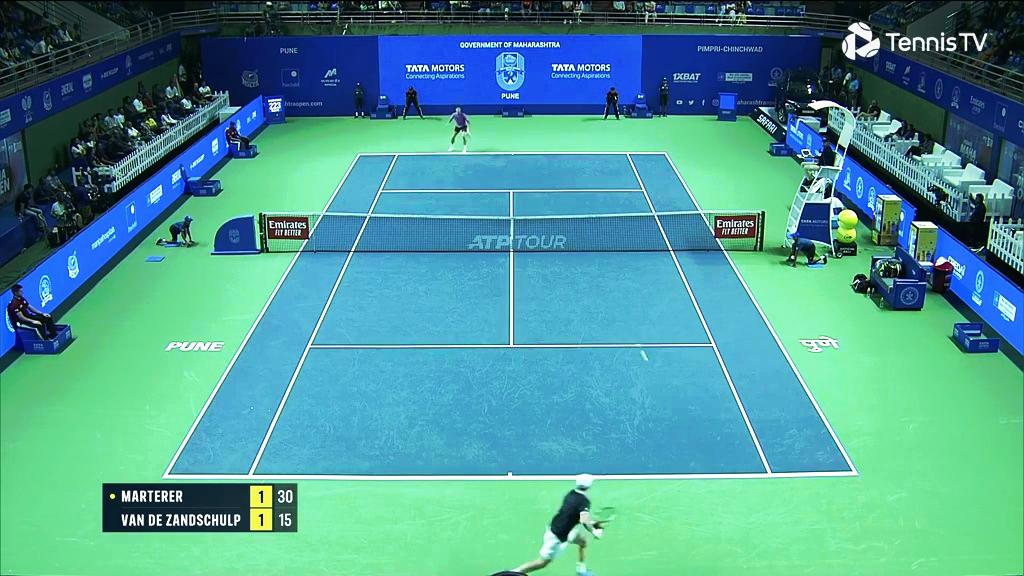tennis-court: (161, 152, 860, 480)
